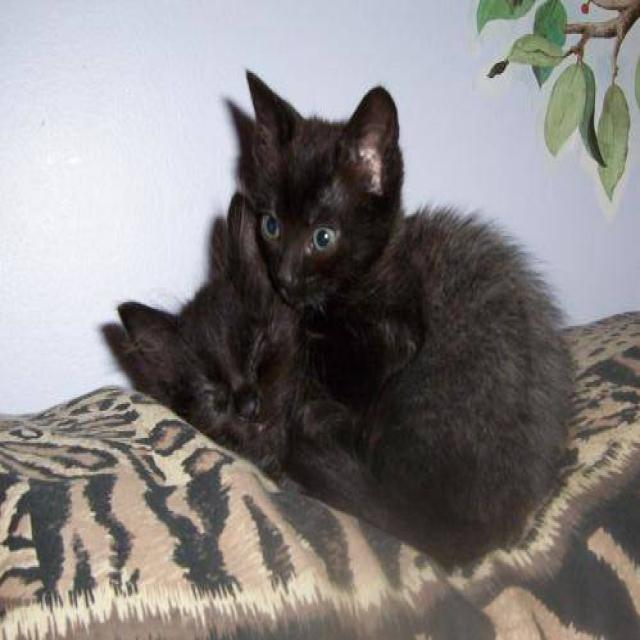cat: (232, 53, 605, 580), (78, 168, 365, 534)
